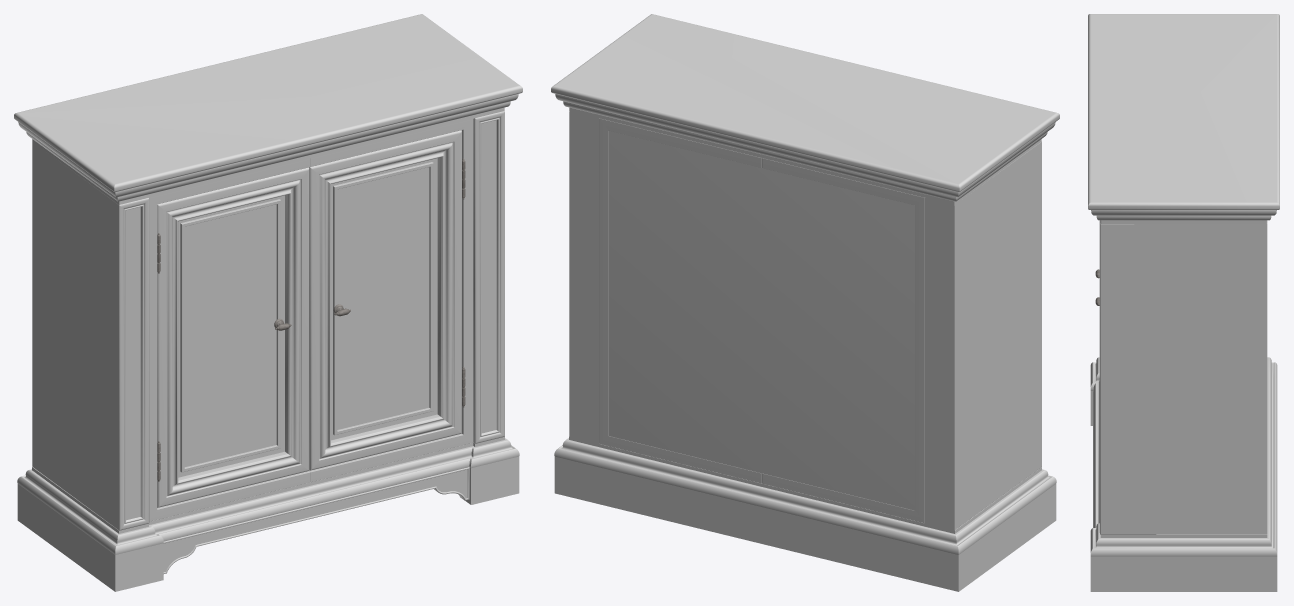
File: dapur.fbx
3 views of the same model, side by side, from view 1: azimuth 30°, elevation 25°; view 2: azimuth 150°, elevation 25°; view 3: azimuth 270°, elevation 25° (orthographic). The views are drawn at different scales.
Visible parts, largest first — view 1: 3D OBJE.001, 3D OBJE, 3D OBJE.006, 3D OBJE.004, 3D OBJE.003, 3D OBJE.005, 3D OBJE.002; view 2: 3D OBJE.003, 3D OBJE, 3D OBJE.006, 3D OBJE.004, 3D OBJE.005; view 3: 3D OBJE, 3D OBJE.006, 3D OBJE.004, 3D OBJE.005.
Part boxes in pixels (box(x1,y1,x2,y2)): 3D OBJE.001: box(157, 130, 461, 507); 3D OBJE: box(32, 111, 504, 530); 3D OBJE.006: box(14, 14, 522, 192); 3D OBJE.004: box(17, 436, 519, 591); 3D OBJE.003: box(149, 119, 473, 521); 3D OBJE.005: box(18, 94, 518, 204); 3D OBJE.002: box(157, 158, 465, 481); 3D OBJE.003: box(599, 118, 924, 523); 3D OBJE: box(569, 111, 1041, 530); 3D OBJE.006: box(551, 14, 1059, 192); 3D OBJE.004: box(554, 436, 1056, 591); 3D OBJE.005: box(555, 94, 1055, 204); 3D OBJE: box(1099, 220, 1267, 534); 3D OBJE.006: box(1088, 14, 1279, 209); 3D OBJE.004: box(1090, 357, 1277, 591); 3D OBJE.005: box(1091, 210, 1276, 223).
Bounding box in the file's own units: 1.16 × 0.4929 × 1.1.
2 materials, 1 textured.
